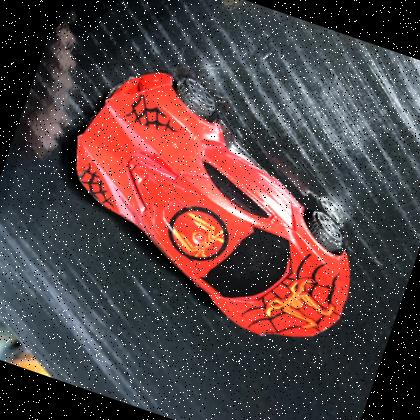Car: (26, 40, 409, 368)
